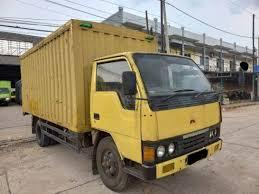truck: (77, 39, 250, 194)
